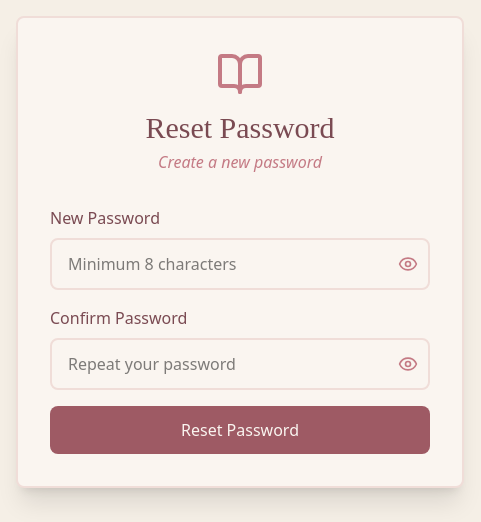
Test: submission › should show the success screen on successful reset
In the password field with placeholder "Minimum 8 characters": (240, 264) [50,238,430,290], type "newpassword123"
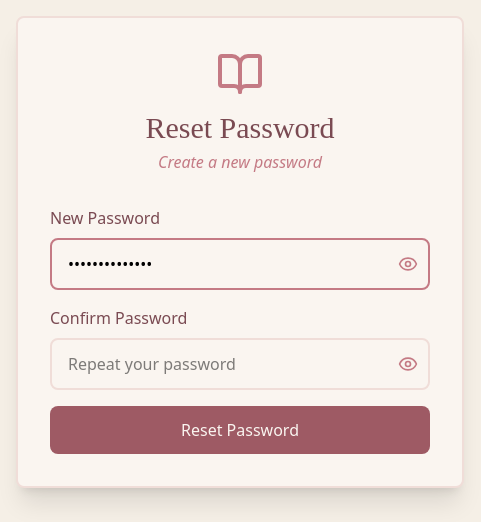
In the password field with placeholder "Repeat your password": (240, 364) [50,338,430,390], type "newpassword123"
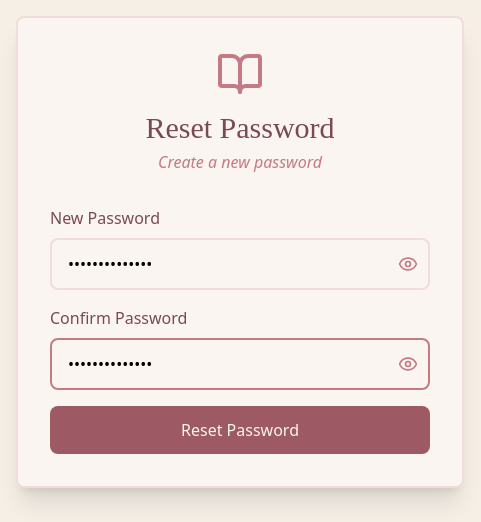
Click the button "Reset Password": click(240, 430) [50,406,430,454]
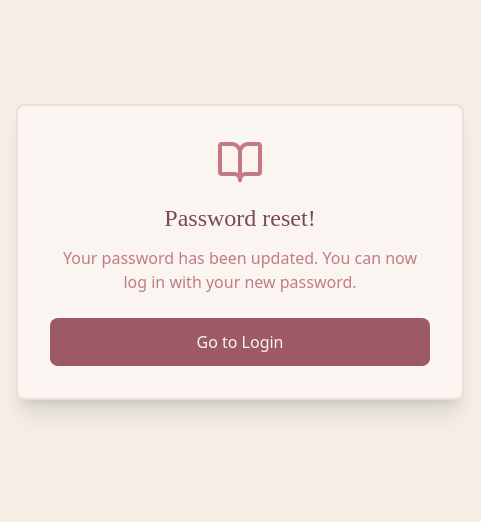
Now the heading "Password reset!" is shown, box [164,205,316,231]
